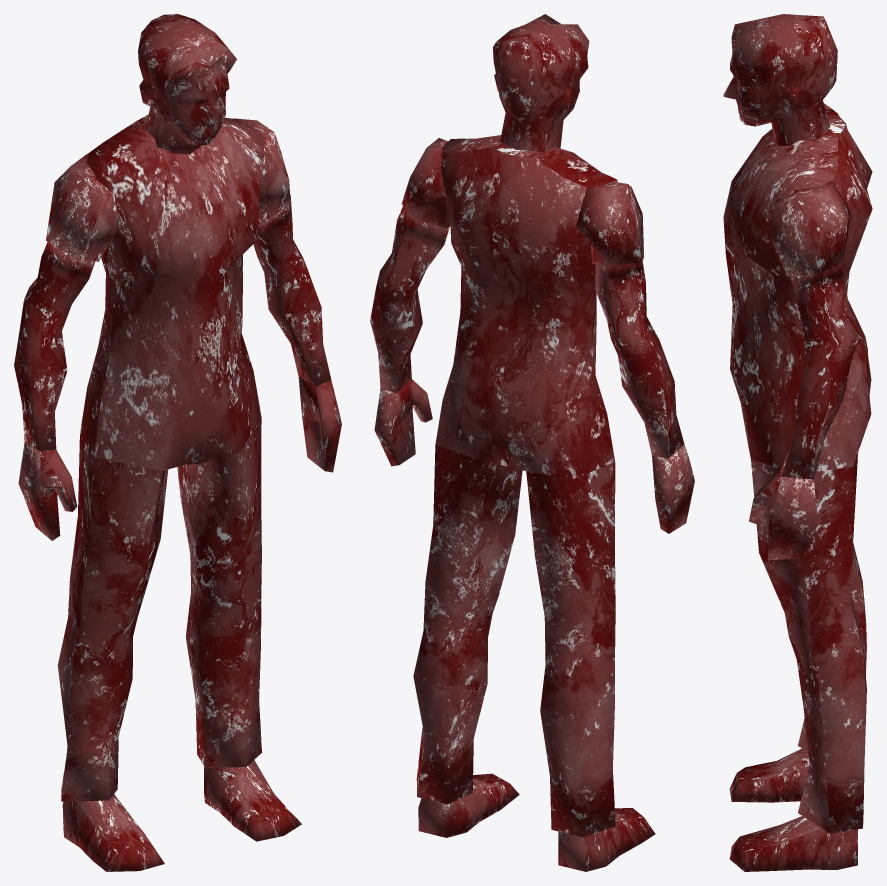
File: still.fbx
3 views of the same model, side by side, from view 1: azimuth 30°, elevation 25°; view 2: azimuth 150°, elevation 25°; view 3: azimuth 270°, elevation 25° (orthographic).
Parts seen in each view (by area): view 1: still; view 2: still; view 3: still.
Part boxes in pixels (x1,y1,x2,y2): still: (14,14,341,871); still: (370,14,694,871); still: (723,14,872,871).
Bounding box in the file's own units: 74.27 × 191 × 32.02.
